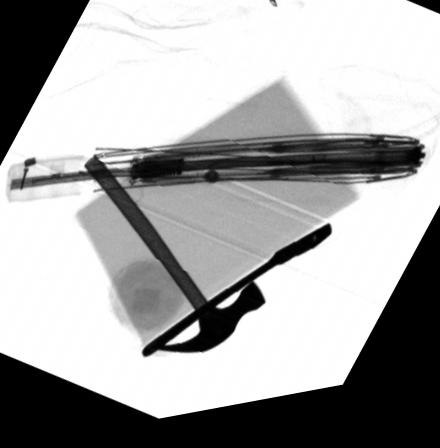Hammer: (82, 157, 264, 360)
Wrench: (140, 235, 331, 363)
